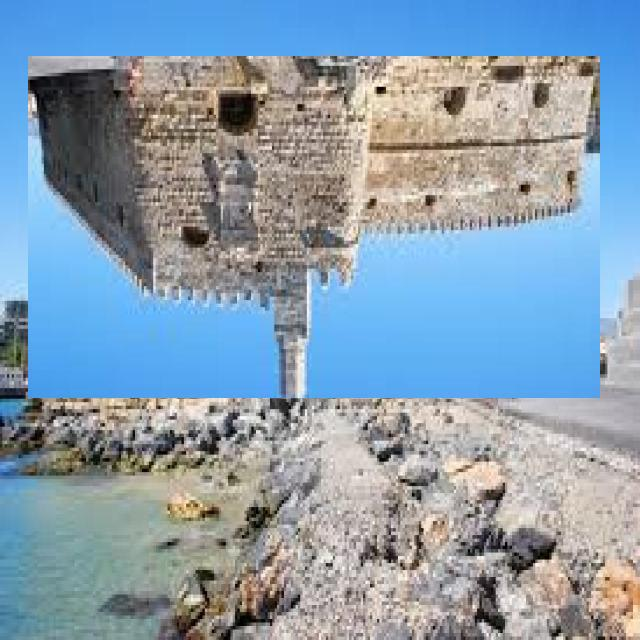Kules: (29, 57, 601, 399)
